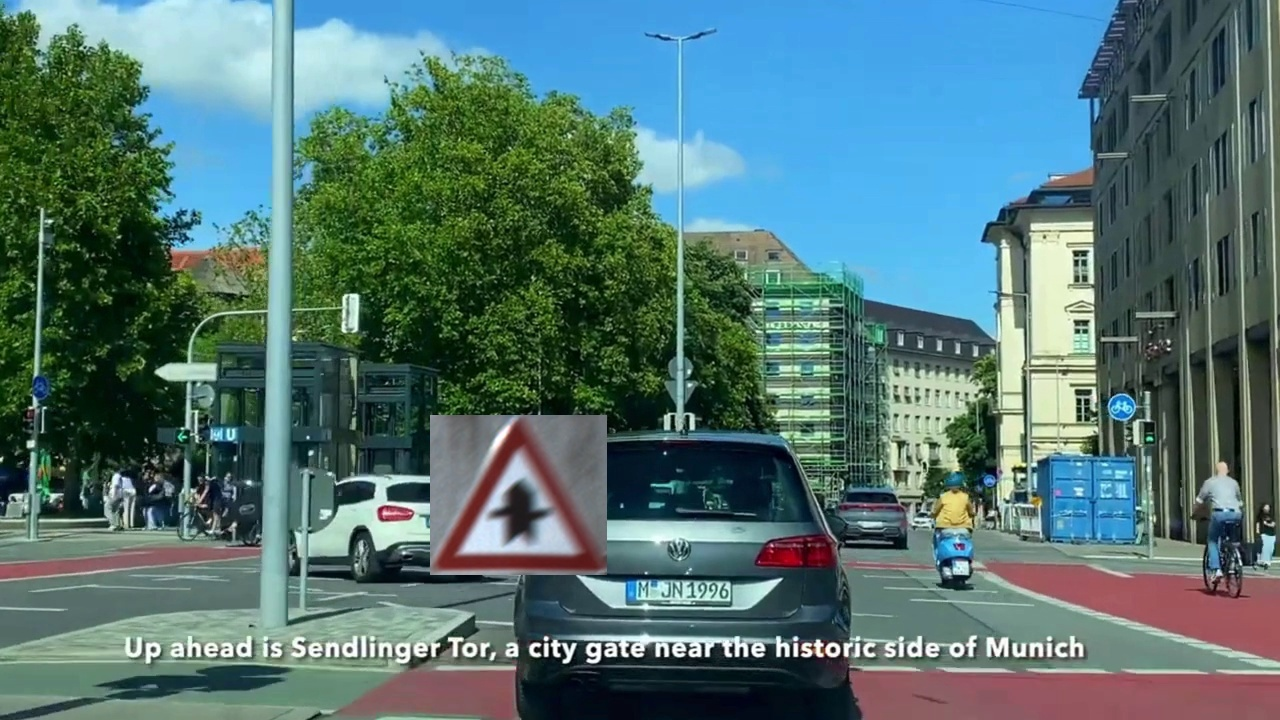Right-of-way: (430, 415, 607, 575)
